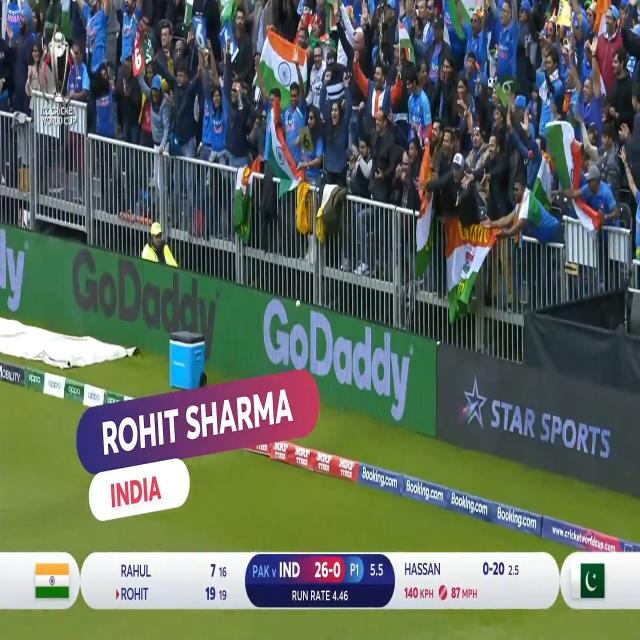ball: (293, 295, 303, 314)
